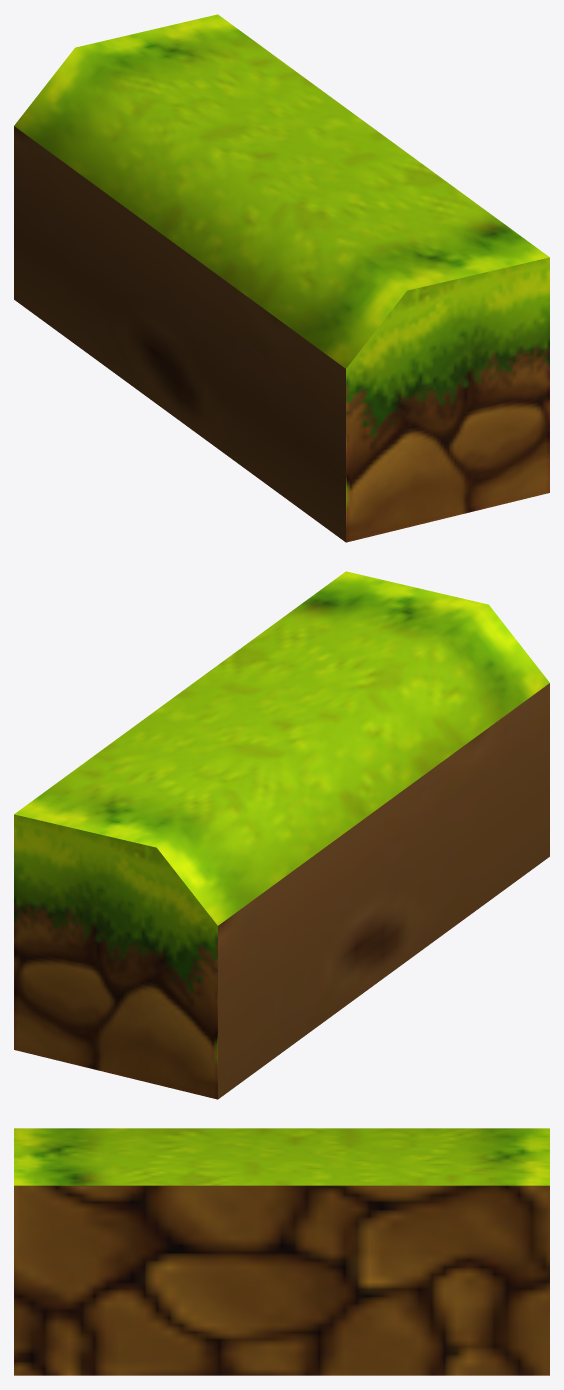
File: Road_11.fbx
The picture shows the model from 3 angles, top to bottom: view 1: azimuth 30°, elevation 25°; view 2: azimuth 150°, elevation 25°; view 3: azimuth 270°, elevation 25°; orthographic projection. The views are drawn at different scales.
Parts seen in each view (by area): view 1: Road_11; view 2: Road_11; view 3: Road_11.
Boxes of the visible parts, left/top/right/bottom form: Road_11: left=14, top=14, right=549, bottom=542; Road_11: left=14, top=571, right=549, bottom=1099; Road_11: left=14, top=1128, right=549, bottom=1375.
Bounding box in the file's own units: 1.51 × 1.68 × 4.26.
1 material, 1 textured.
